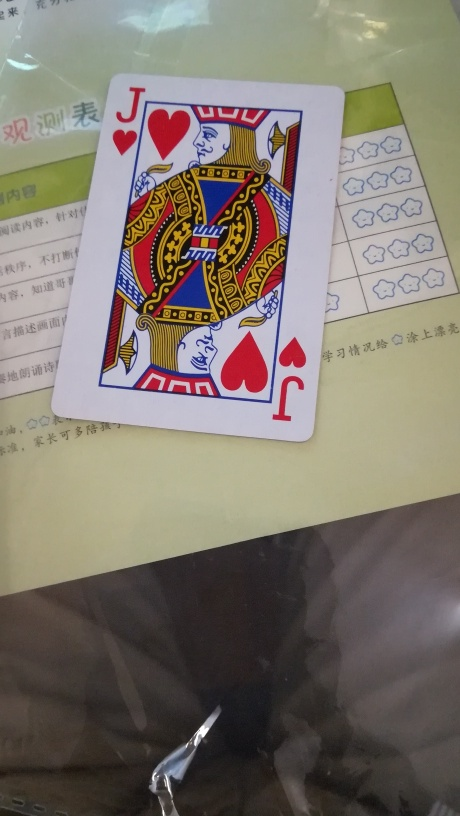hx j: (49, 70, 344, 442)
